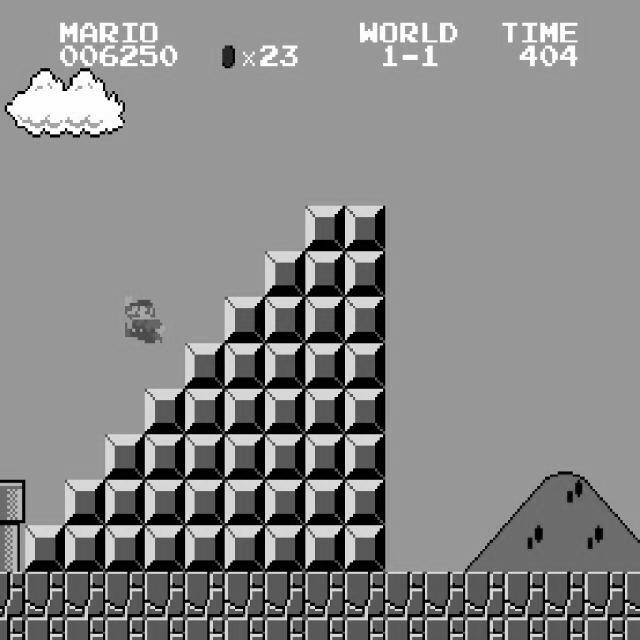11- little_mario: (122, 294, 165, 343)
14- pipe: (0, 525, 25, 571)
15- pipe_head: (0, 480, 25, 525)
17- undestructible_block: (24, 572, 66, 618), (64, 572, 106, 618), (104, 572, 146, 618), (144, 572, 186, 618), (184, 572, 226, 618), (224, 572, 266, 618), (264, 572, 306, 618), (304, 572, 346, 618), (344, 572, 386, 618), (384, 572, 426, 618), (424, 572, 466, 618), (464, 572, 506, 618), (504, 572, 546, 618), (544, 572, 586, 618), (584, 572, 626, 618), (0, 571, 25, 617), (24, 617, 66, 640), (64, 617, 106, 640), (104, 617, 146, 640), (144, 617, 186, 640), (184, 617, 226, 640), (224, 617, 266, 640), (264, 617, 306, 640), (304, 617, 346, 640), (344, 617, 386, 640), (384, 617, 426, 640), (424, 617, 466, 640), (464, 617, 506, 640), (504, 617, 546, 640), (544, 617, 586, 640), (584, 617, 626, 640), (625, 572, 640, 618), (0, 617, 25, 639), (625, 617, 640, 640)
9- hard_block: (24, 526, 66, 572), (64, 480, 106, 526), (64, 526, 106, 572), (104, 434, 146, 480), (104, 480, 146, 526), (104, 526, 146, 572), (144, 388, 186, 434), (144, 434, 186, 480), (144, 480, 186, 526), (144, 526, 186, 572), (184, 388, 226, 434), (184, 434, 226, 480), (184, 480, 226, 526), (184, 526, 226, 572), (224, 297, 266, 343), (224, 388, 266, 434), (224, 434, 266, 480), (224, 480, 266, 526), (224, 526, 266, 572), (264, 252, 306, 298), (264, 297, 306, 343), (264, 388, 306, 434), (264, 434, 306, 480), (264, 480, 306, 526), (264, 526, 306, 572), (304, 252, 346, 298), (304, 297, 346, 343), (304, 388, 346, 434), (304, 434, 346, 480), (304, 480, 346, 526), (304, 526, 346, 572), (344, 252, 386, 298), (344, 297, 386, 343), (344, 388, 386, 434), (344, 434, 386, 480), (344, 480, 386, 526), (344, 526, 386, 572), (184, 343, 226, 388), (224, 343, 266, 388), (264, 343, 306, 388), (304, 206, 346, 251), (304, 343, 346, 388), (344, 206, 386, 251), (344, 343, 386, 388)
